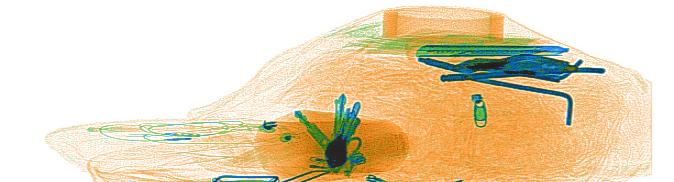knife: (408, 39, 570, 60)
